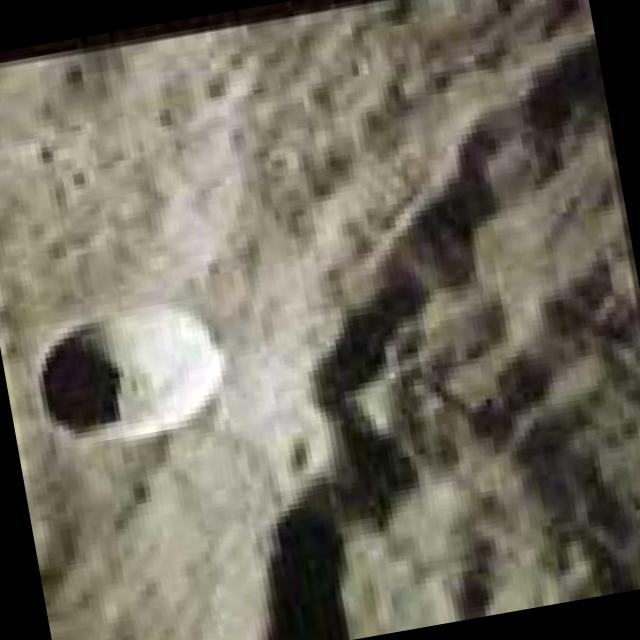crater: (24, 296, 229, 450)
